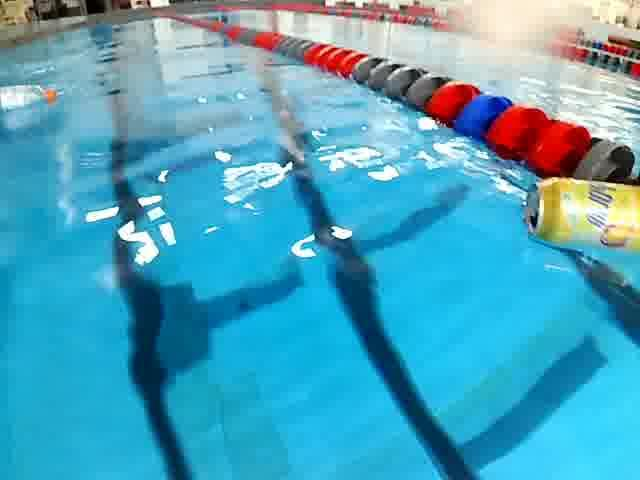Bottle: (0, 81, 67, 117)
Can: (522, 174, 640, 254)
